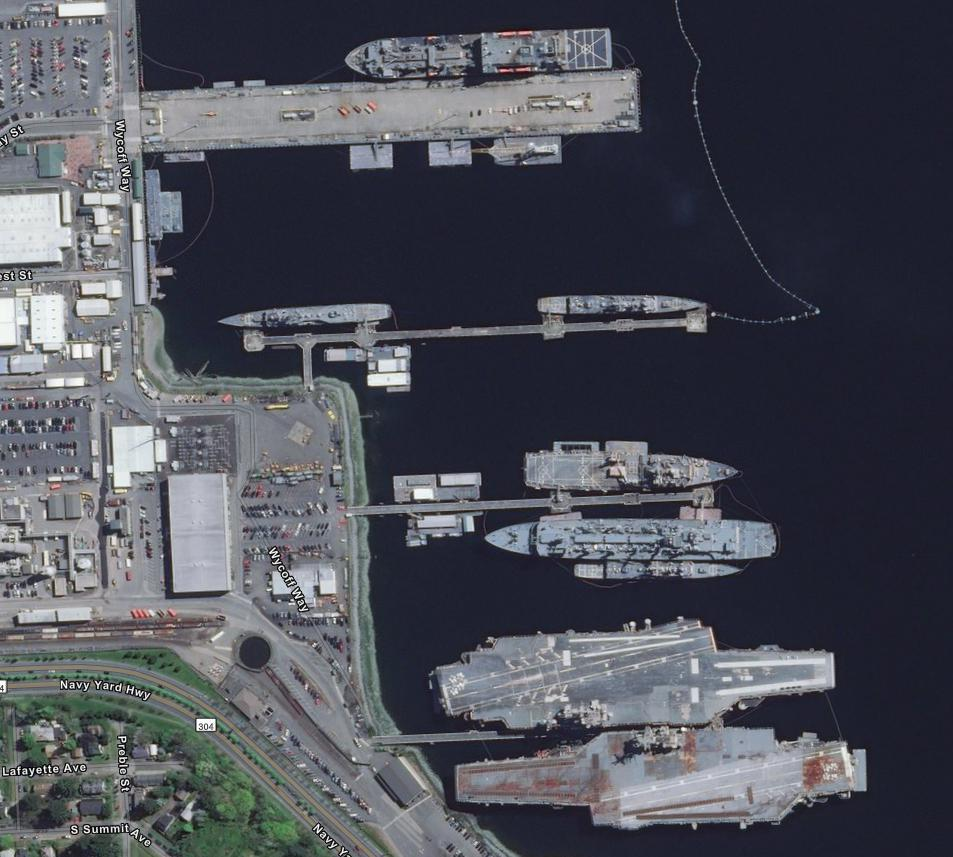carrier: (420, 618, 847, 733), (447, 725, 877, 834)
